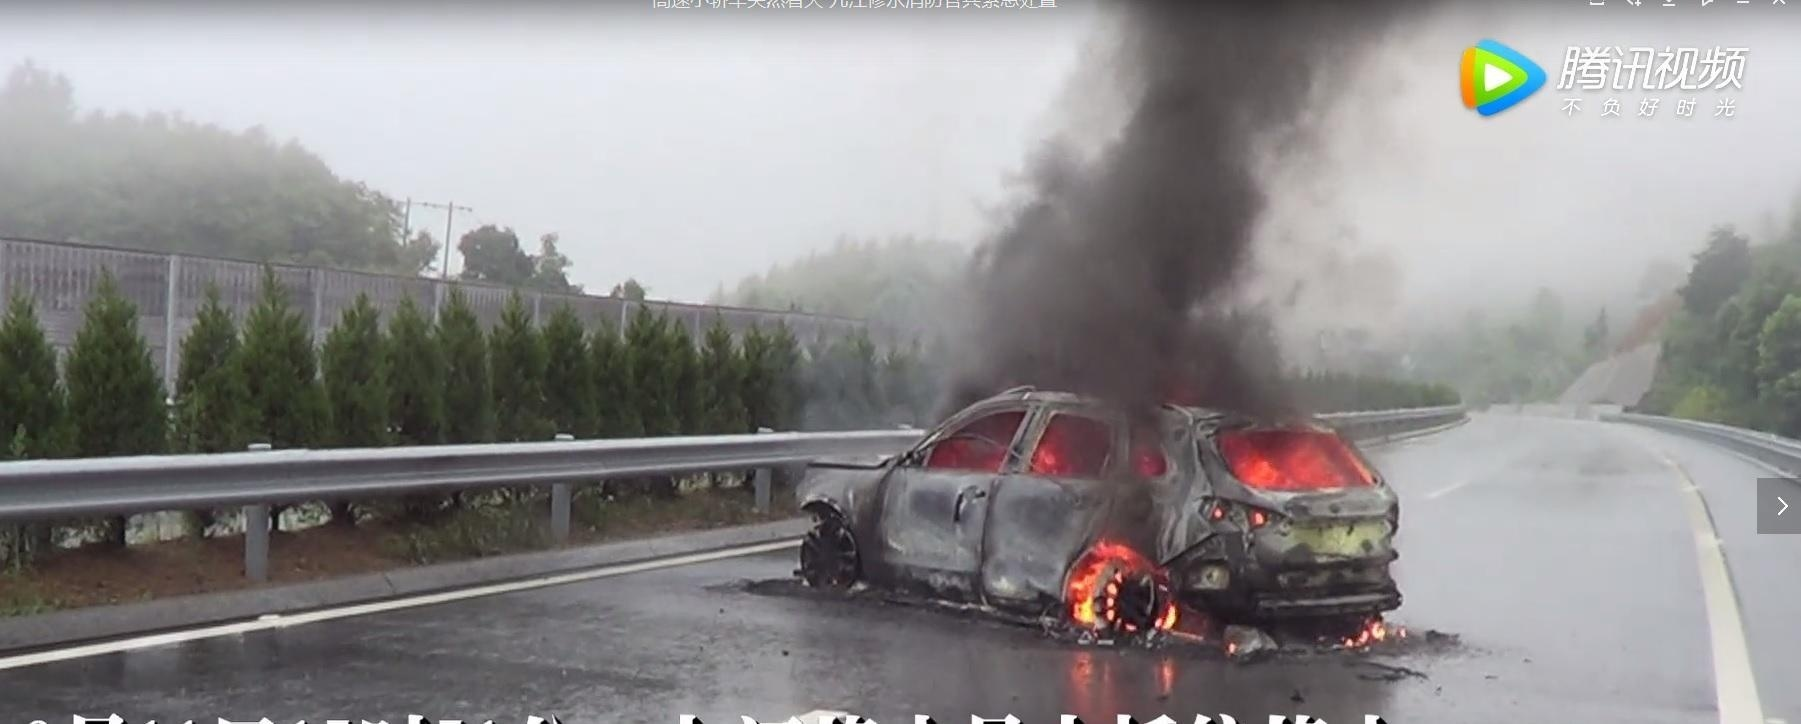fire: (1066, 541, 1182, 638)
